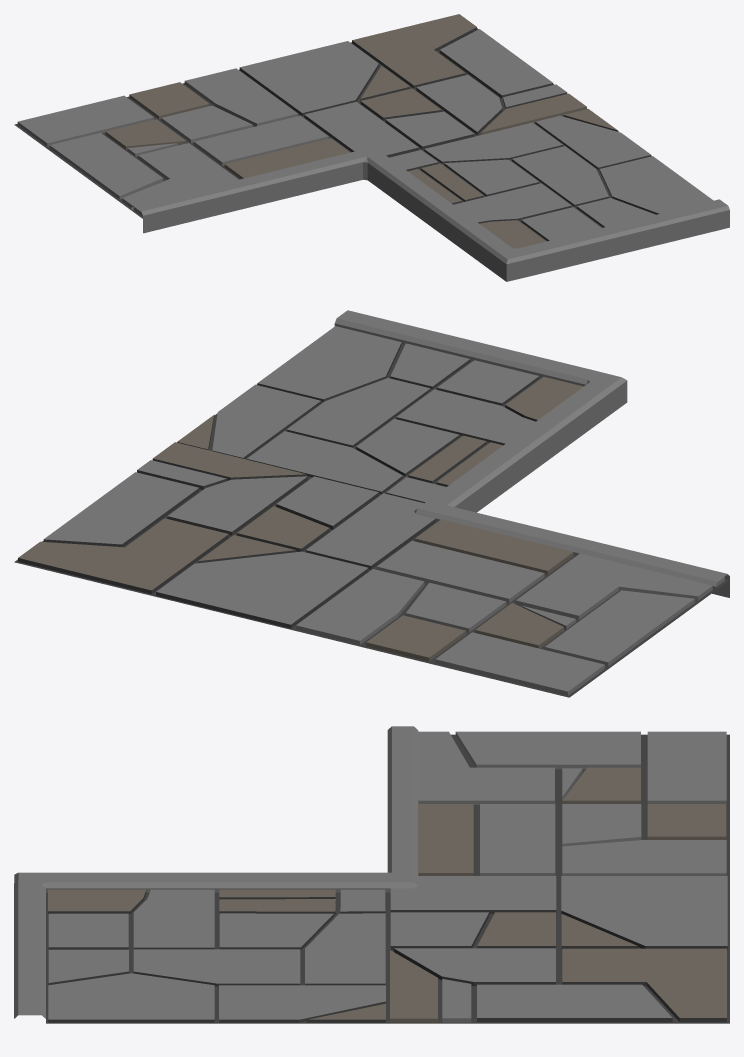
Rendered from Walkway Modern D.fbx.
3 renders of one model, top to bottom at view 1: azimuth 30°, elevation 25°; view 2: azimuth 150°, elevation 25°; view 3: azimuth 270°, elevation 25°, orthographic. The views are drawn at different scales.
Visible parts, largest first — view 1: Walkway Modern D.001; view 2: Walkway Modern D.001; view 3: Walkway Modern D.001.
Part boxes in pixels (left/top/right/bottom): Walkway Modern D.001: left=14, top=14, right=729, bottom=281; Walkway Modern D.001: left=14, top=310, right=729, bottom=697; Walkway Modern D.001: left=14, top=726, right=729, bottom=1023.
Size of the model in its own units: 610 by 638 by 27.01.
